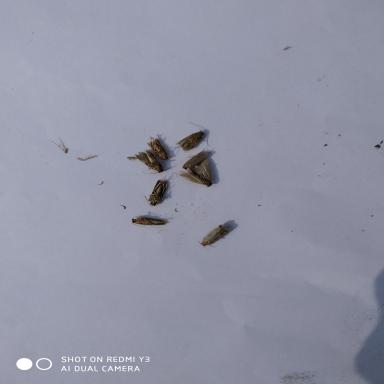pbw: (177, 158, 216, 192), (172, 122, 215, 152), (128, 148, 174, 176), (194, 219, 234, 251), (146, 175, 176, 209), (180, 144, 214, 172), (122, 214, 170, 232), (145, 136, 171, 162)
